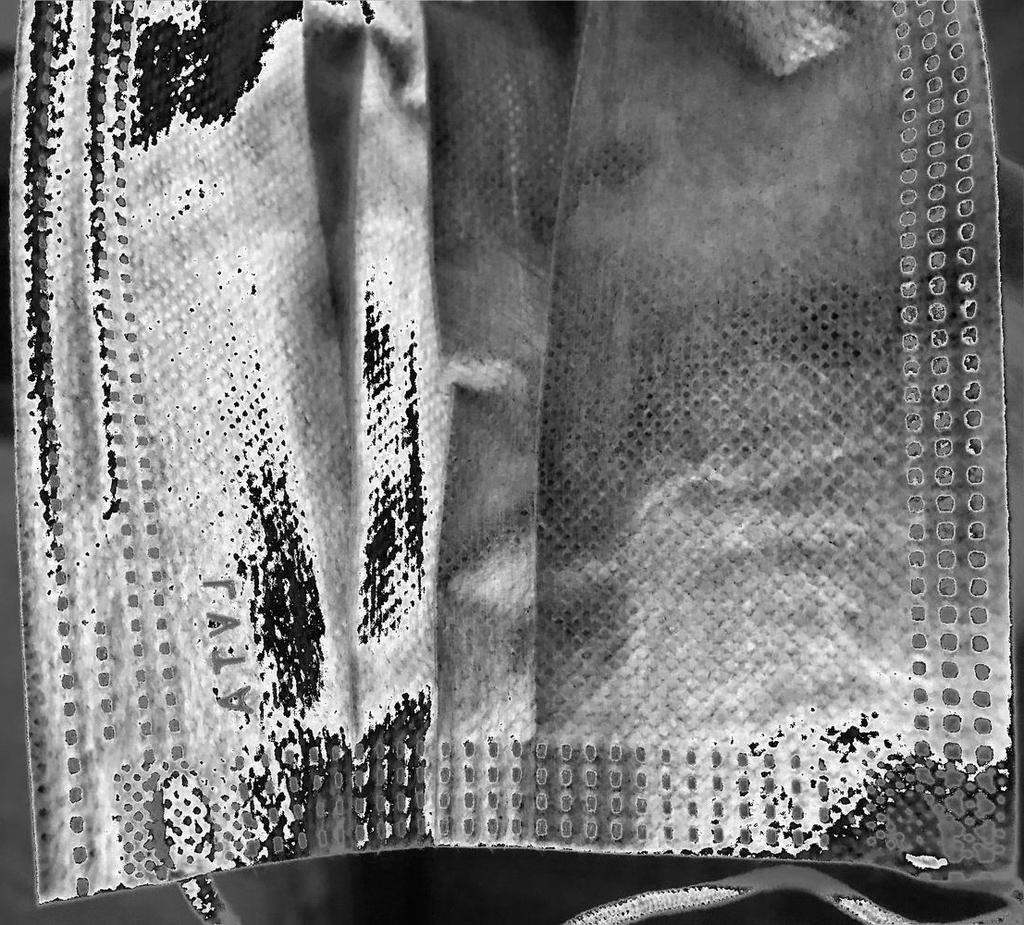High GSM: (6, 2, 1020, 905)
